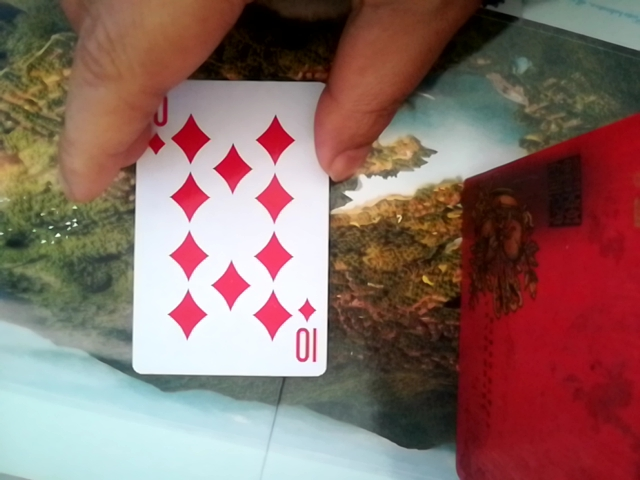fk 10: (132, 76, 323, 383)
